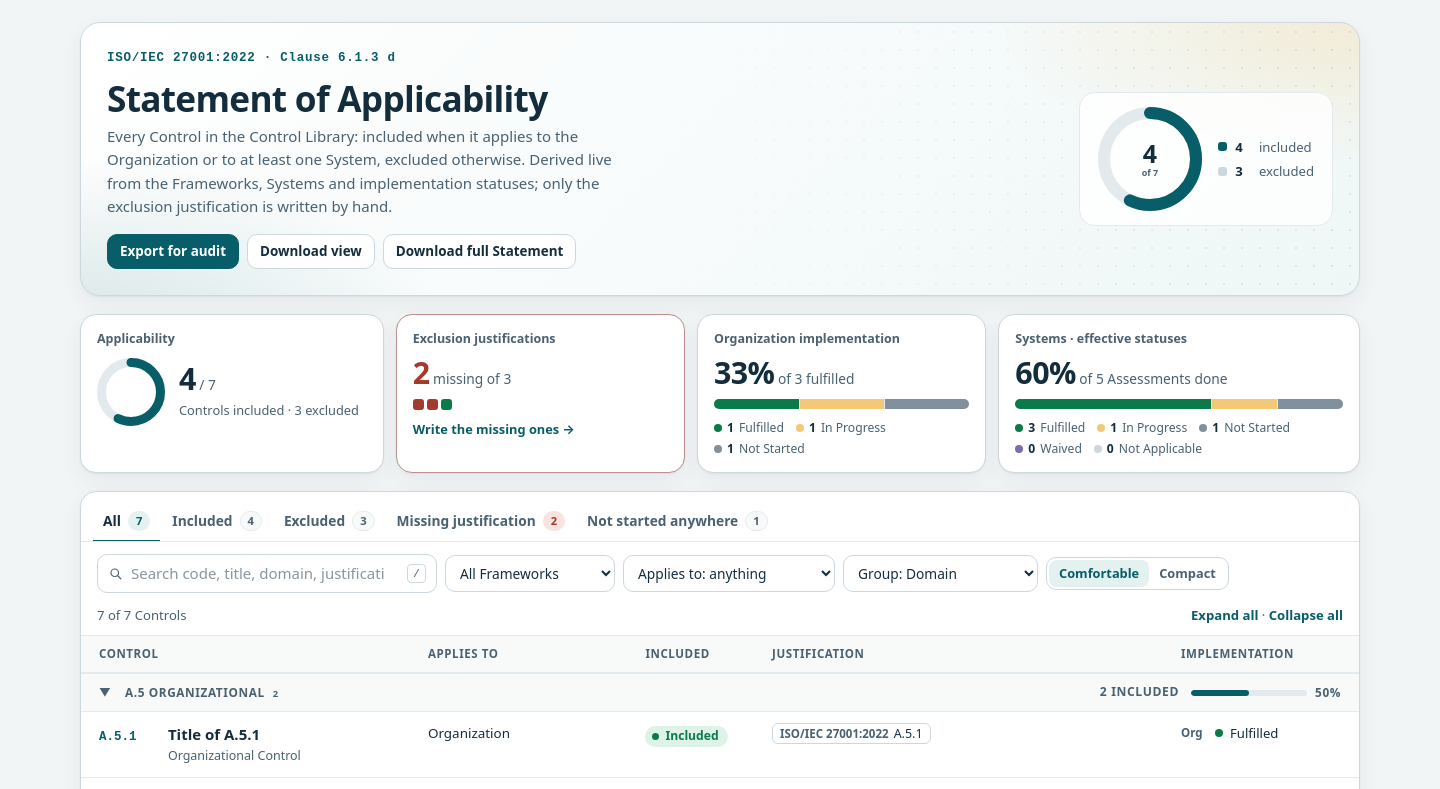
the views › count the Controls, the missing count in red, and narrow the table
Expected: the text "7" is shown, [128, 512, 150, 531]
Expected: the 2nd text "4" is shown, [240, 512, 262, 531]
Click the tab "Included 4".
click(217, 522)  # box [162, 502, 272, 542]
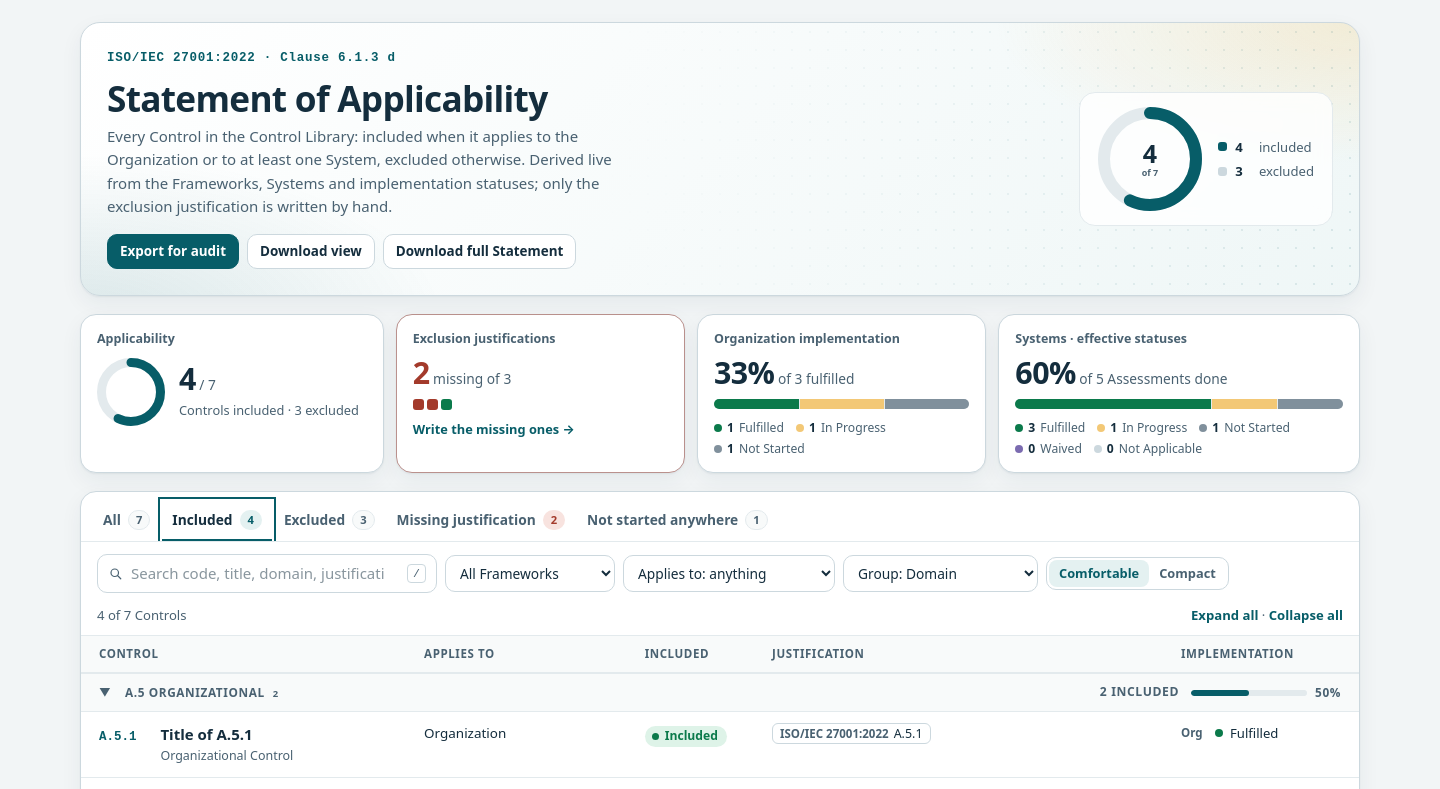
Click the tab "Missing justification 2".
click(481, 521)  # box [386, 502, 575, 541]
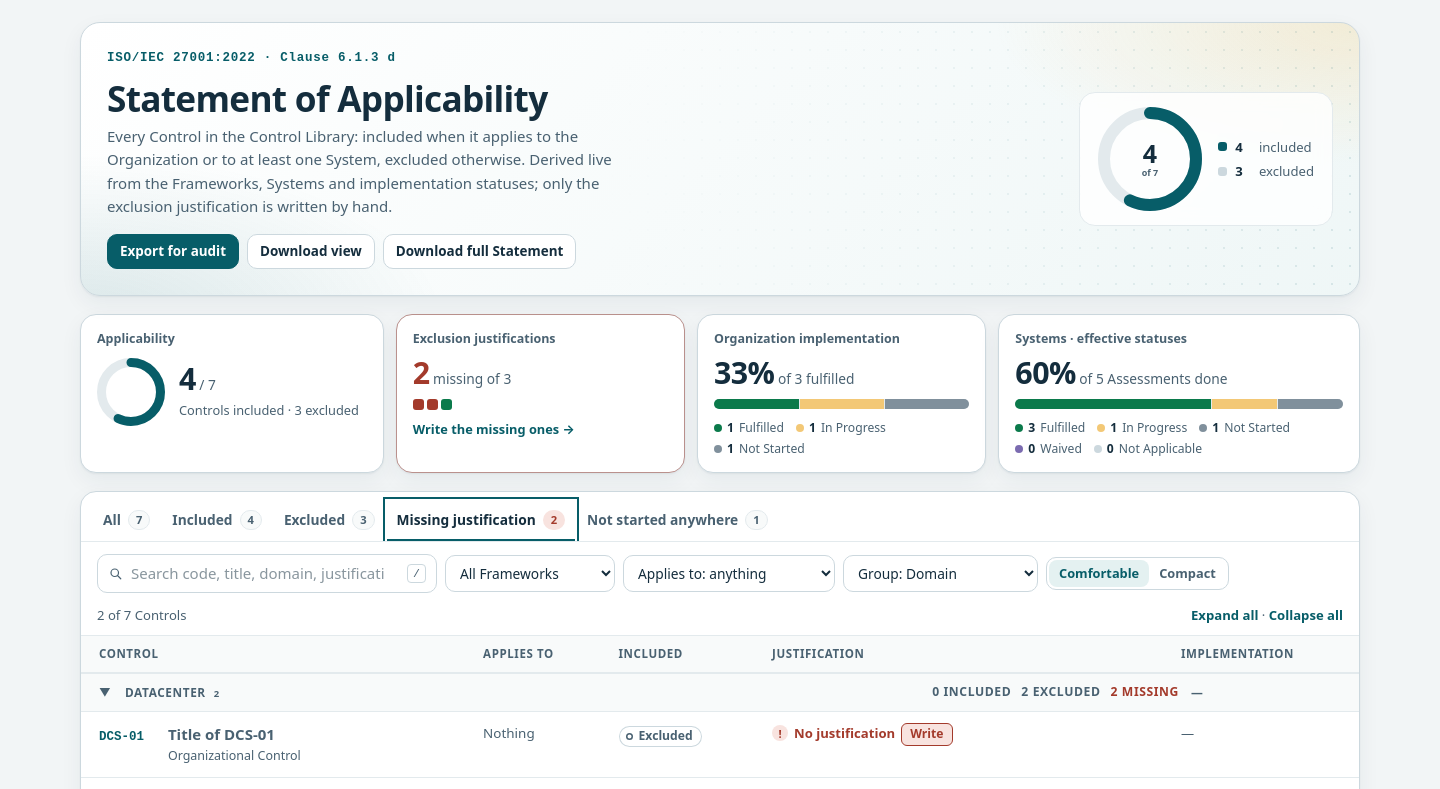
Expected: the text "2 of 7 Controls" is shown, [97, 605, 186, 625]
